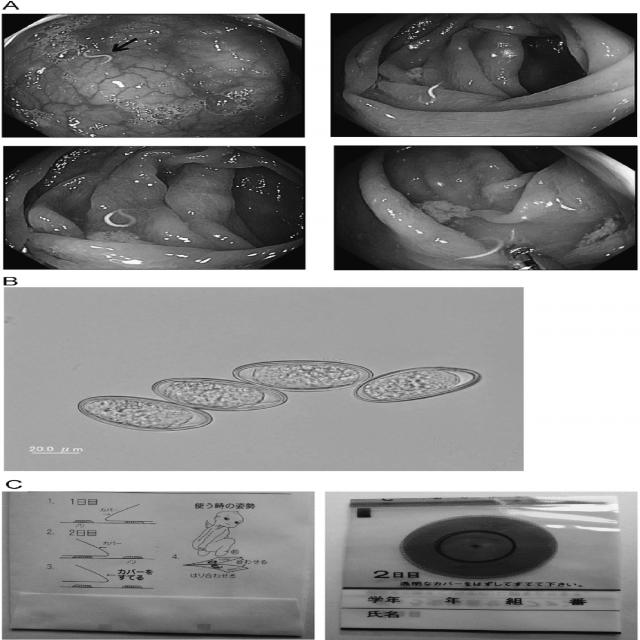Enterobius Vermicularis: (70, 388, 220, 436), (218, 351, 387, 392), (352, 361, 488, 407), (148, 372, 297, 412)
